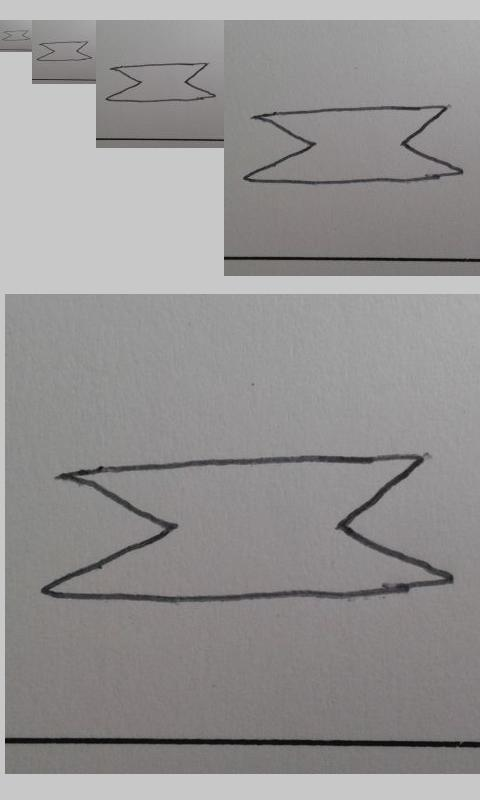edit_text: (42, 450, 456, 605), (242, 104, 464, 187), (105, 61, 216, 104), (36, 41, 92, 62), (2, 30, 30, 42)
